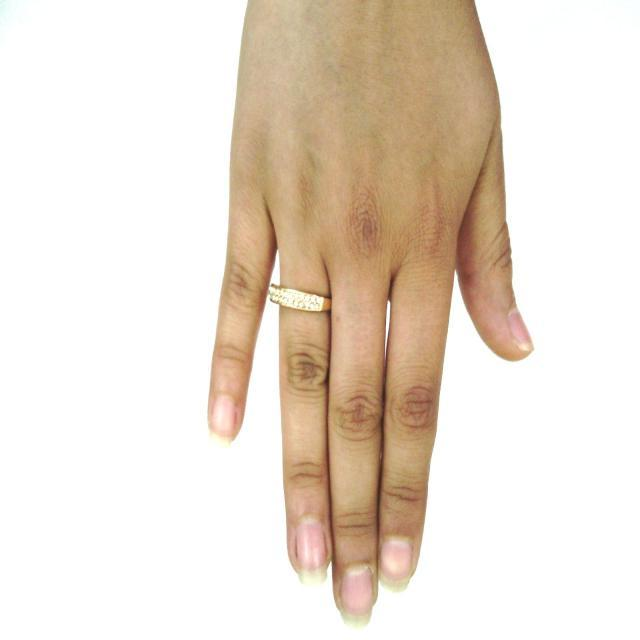Fingernail: (297, 518, 328, 585), (341, 568, 373, 627), (381, 540, 412, 591), (211, 396, 236, 444), (509, 309, 534, 350)
